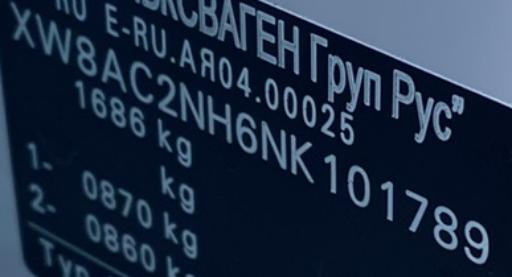letter: (34, 10, 72, 65), (401, 183, 431, 243), (258, 118, 288, 173), (288, 134, 318, 189), (345, 161, 375, 216), (178, 78, 206, 134), (206, 93, 232, 152), (461, 218, 491, 269), (432, 203, 460, 255), (100, 44, 128, 96), (126, 58, 154, 108), (320, 149, 344, 203), (8, 1, 34, 49), (234, 109, 258, 160), (155, 71, 177, 122), (76, 32, 98, 80), (375, 179, 397, 226)
